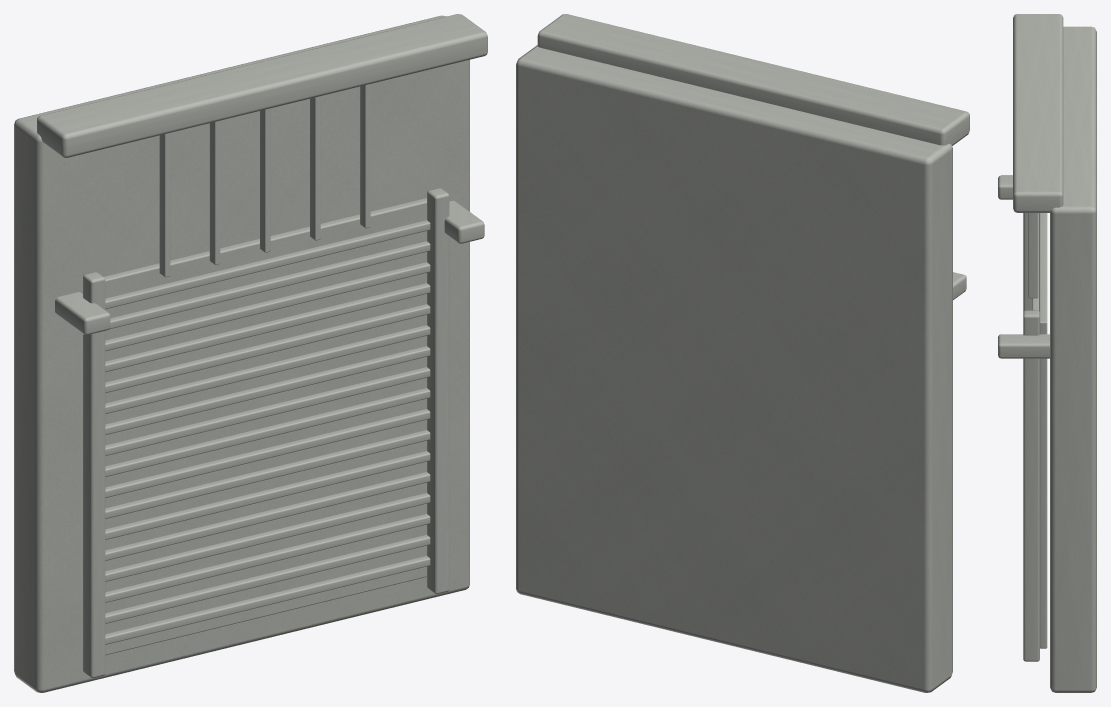
File: night_market_shutters_windows.glb
3 renders of one model, left to right at view 1: azimuth 30°, elevation 25°; view 2: azimuth 150°, elevation 25°; view 3: azimuth 270°, elevation 25°, orthographic. The views are drawn at different scales.
Visible parts, largest first — view 1: ENV_NMK_Shutter_Frame, ENV_NMK_Shutter_Opening, ENV_NMK_Window_Lintel, ENV_NMK_Shutter_Guide.001, ENV_NMK_Shutter_Guide, ENV_NMK_Shutter_Slat, ENV_NMK_Shutter_Slat.001, ENV_NMK_Shutter_Slat.014, ENV_NMK_Shutter_Slat.016, ENV_NMK_Shutter_Slat.002, ENV_NMK_Shutter_Slat.011, ENV_NMK_Shutter_Slat.012 (+17 smaller); view 2: ENV_NMK_Shutter_Frame, ENV_NMK_Window_Lintel; view 3: ENV_NMK_Shutter_Frame, ENV_NMK_Window_Lintel, ENV_NMK_Shutter_Guide.001, ENV_NMK_Shutter_Opening, ENV_NMK_Window_Sill_End.001, ENV_NMK_Window_Bar.004, ENV_NMK_Shutter_Guide, ENV_NMK_Window_Sill_End.
Boxes of the visible parts, x1,y1,x2,y2 form: ENV_NMK_Shutter_Frame: (14, 15, 469, 692); ENV_NMK_Shutter_Opening: (103, 198, 426, 655); ENV_NMK_Window_Lintel: (37, 14, 487, 157); ENV_NMK_Shutter_Guide.001: (427, 188, 449, 593); ENV_NMK_Shutter_Guide: (83, 272, 105, 677); ENV_NMK_Shutter_Slat: (105, 555, 430, 644); ENV_NMK_Shutter_Slat.001: (105, 534, 430, 623); ENV_NMK_Shutter_Slat.014: (105, 262, 430, 351); ENV_NMK_Shutter_Slat.016: (105, 220, 430, 309); ENV_NMK_Shutter_Slat.002: (105, 514, 430, 602); ENV_NMK_Shutter_Slat.011: (105, 325, 430, 413); ENV_NMK_Shutter_Slat.012: (105, 304, 430, 392); ENV_NMK_Shutter_Frame: (516, 45, 952, 692); ENV_NMK_Window_Lintel: (537, 14, 969, 145); ENV_NMK_Shutter_Frame: (1050, 26, 1096, 692); ENV_NMK_Window_Lintel: (1013, 14, 1063, 212); ENV_NMK_Shutter_Guide.001: (1023, 310, 1039, 661); ENV_NMK_Shutter_Opening: (1039, 213, 1047, 648); ENV_NMK_Window_Sill_End.001: (998, 334, 1049, 358); ENV_NMK_Window_Bar.004: (1028, 213, 1038, 298); ENV_NMK_Shutter_Guide: (1023, 213, 1031, 311); ENV_NMK_Window_Sill_End: (998, 175, 1012, 199).
Size of what is drawn, in the model's own units: 2.6 by 3.29 by 0.59.
4 materials, 4 textured.
